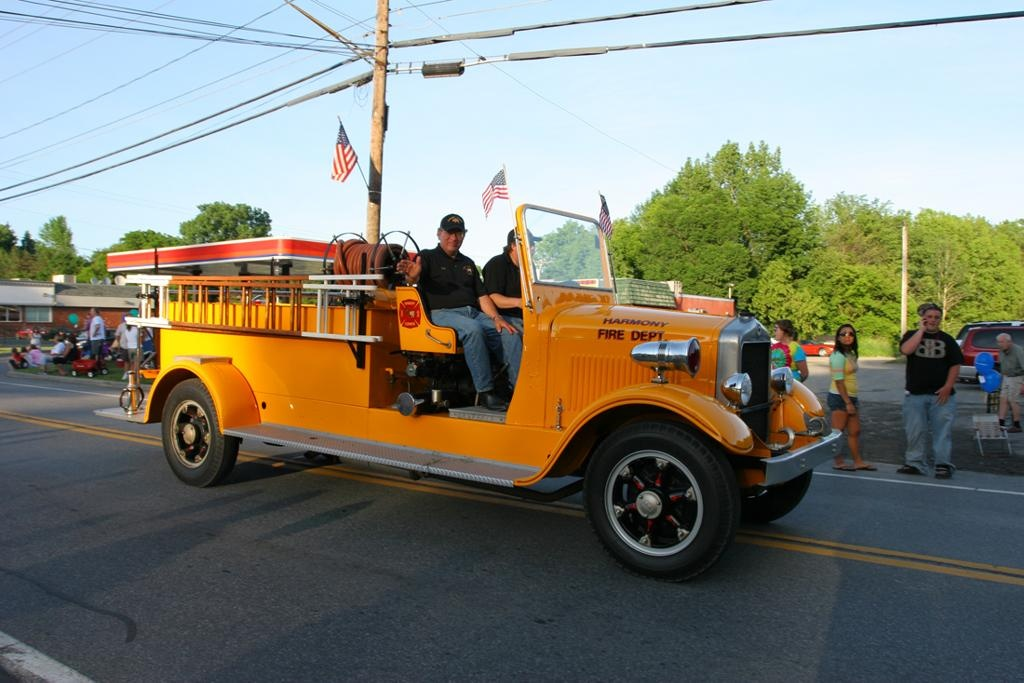human_face: (438, 226, 464, 252), (515, 234, 533, 264), (924, 310, 940, 330), (838, 327, 854, 345), (772, 324, 784, 340), (998, 337, 1008, 349), (90, 308, 94, 314)
